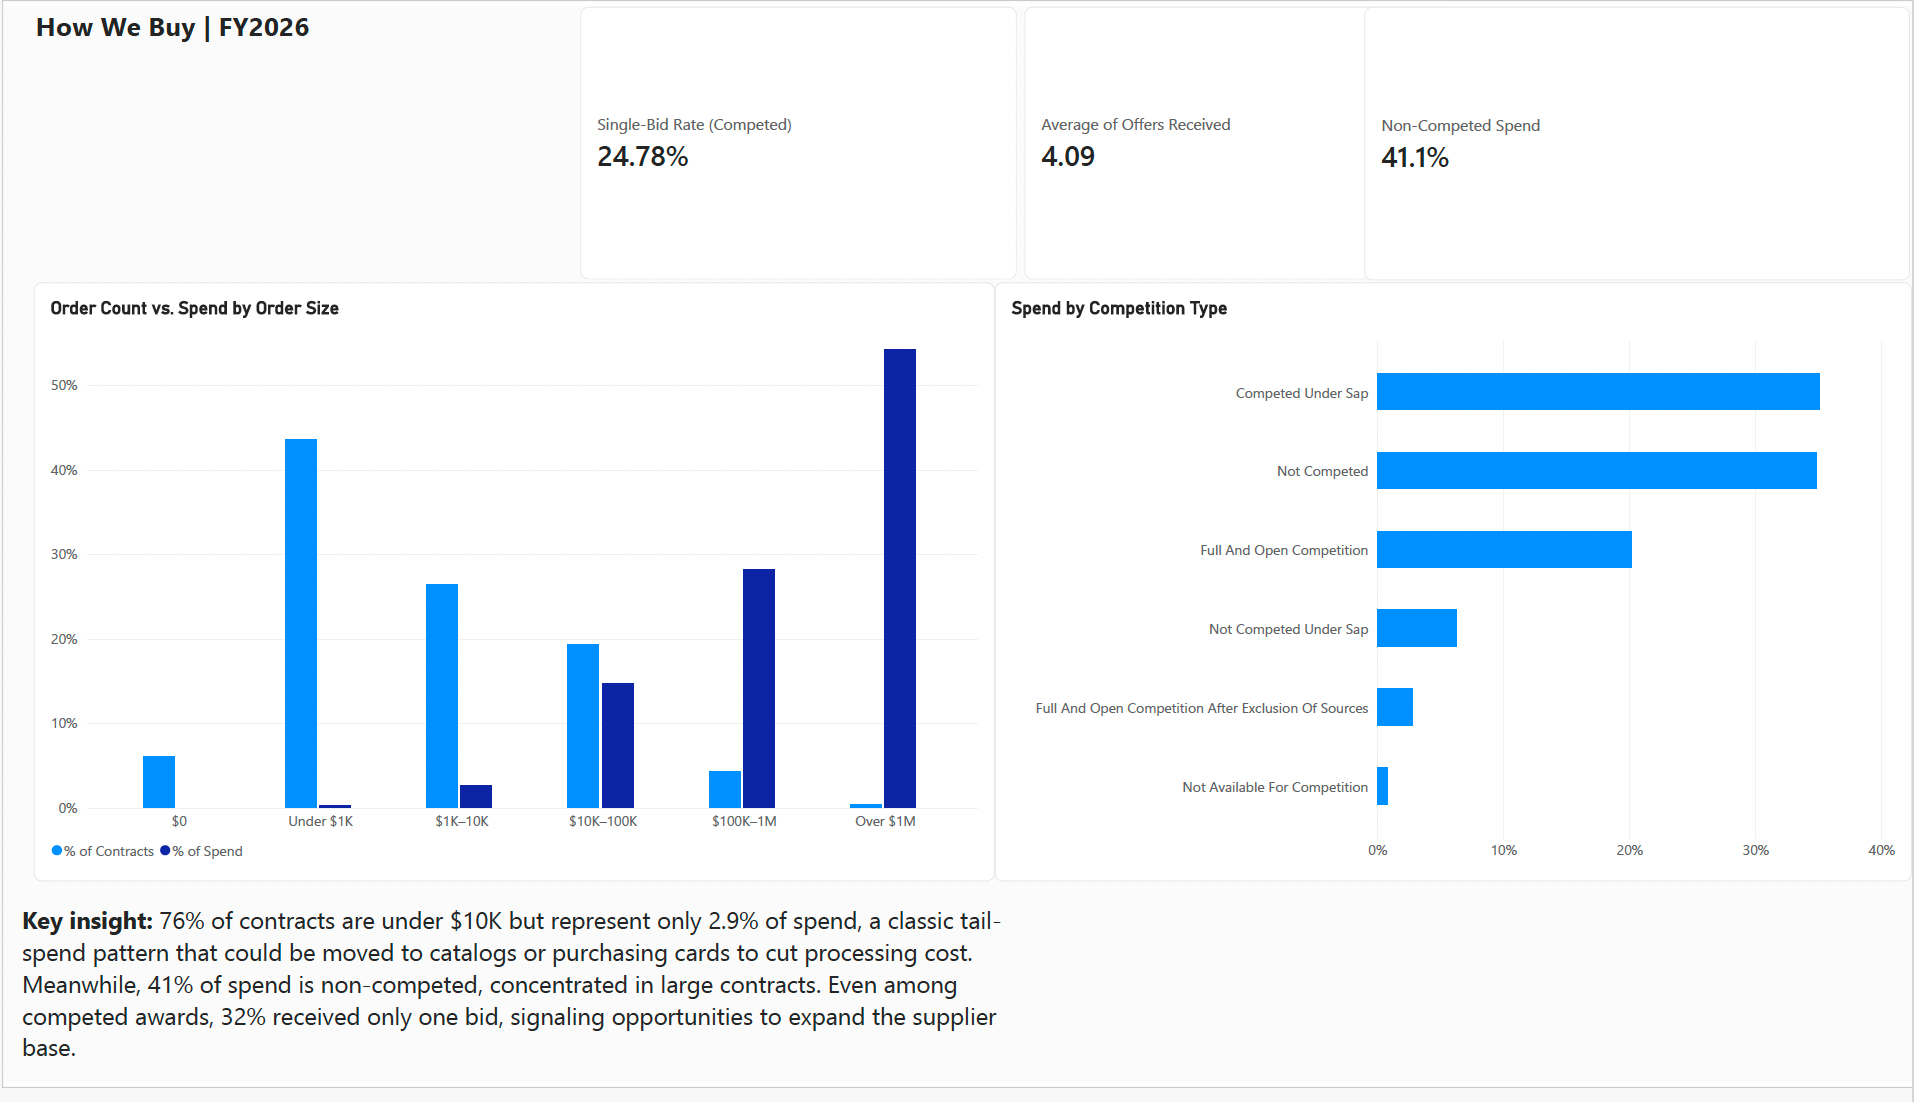

The dashboard page shown, as its layout file describes it:
{"tool":"powerbi","page":{"name":"Buying Channels","canvas":[1920,1080],"ordinal":2},"visuals":[{"type":"clusteredColumnChart","title":"Order Count vs. Spend by Order Size","fields":{"Category":["Contracts.Order Size Band"],"Y":["Contracts.% of Contracts","Contracts.% of Spend"]},"box":[30,276.7,966.7,603.3],"z":0},{"type":"clusteredBarChart","title":"Spend by Competition Type","fields":{"Category":["Contracts.Competition Type"],"Y":["Contracts.% of Spend"]},"box":[996.7,276.7,923.3,603.3],"z":1000},{"type":"cardVisual","fields":{"Data":["Contracts.Single-Bid Rate","Avg(Contracts.Offers Received)"]},"box":[579.6,0,886.8,274.9],"z":2000},{"type":"cardVisual","fields":{"Data":["Contracts.Non-Competed Spend %"]},"box":[1369.4,0,549,275],"z":3000},{"type":"textbox","box":[32,0,548,234],"z":4000},{"type":"textbox","box":[17.5,901.9,1019.4,178.1],"z":5000}]}

Visuals, with their boxes in screenshot pixels (x1, y1, x2, y2), scaled from the page's 1920x1080 canvas onto the 1918x1102 screenshot:
"Order Count vs. Spend by Order Size" clusteredColumnChart: left=30, top=282, right=996, bottom=898
"Spend by Competition Type" clusteredBarChart: left=996, top=282, right=1917, bottom=898
cardVisual - Contracts.Single-Bid Rate x Avg(Contracts.Offers Received): left=579, top=0, right=1465, bottom=280
cardVisual - Contracts.Non-Competed Spend %: left=1368, top=0, right=1916, bottom=281
textbox: left=32, top=0, right=579, bottom=239
textbox: left=17, top=920, right=1036, bottom=1101
